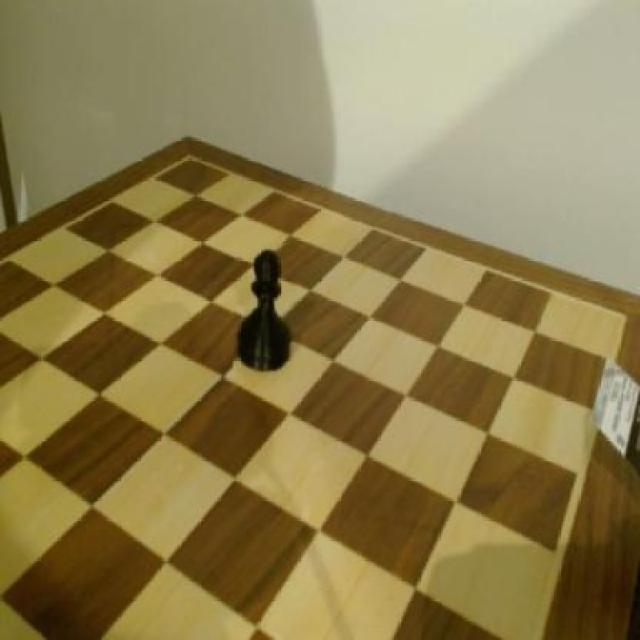black-knight: (236, 242, 296, 376)
